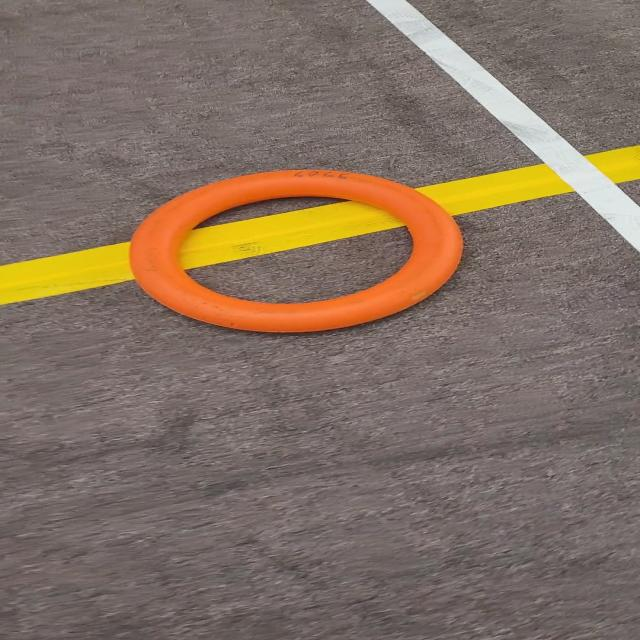note: (119, 170, 504, 346)
